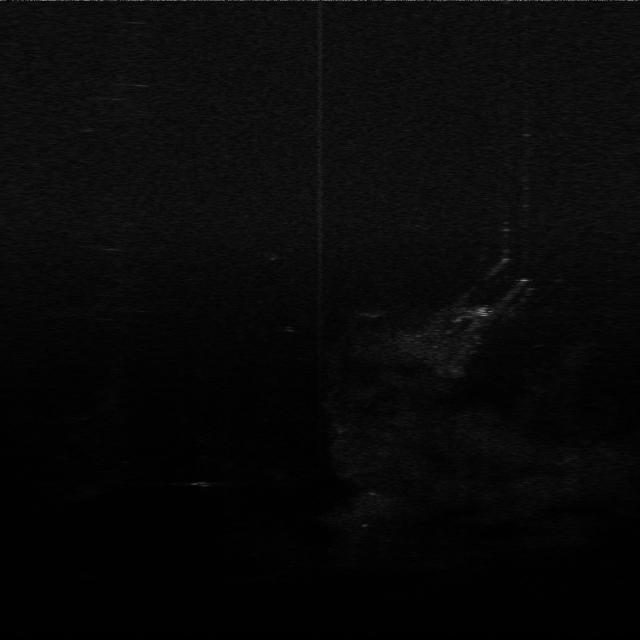rov: (470, 304, 496, 322)
